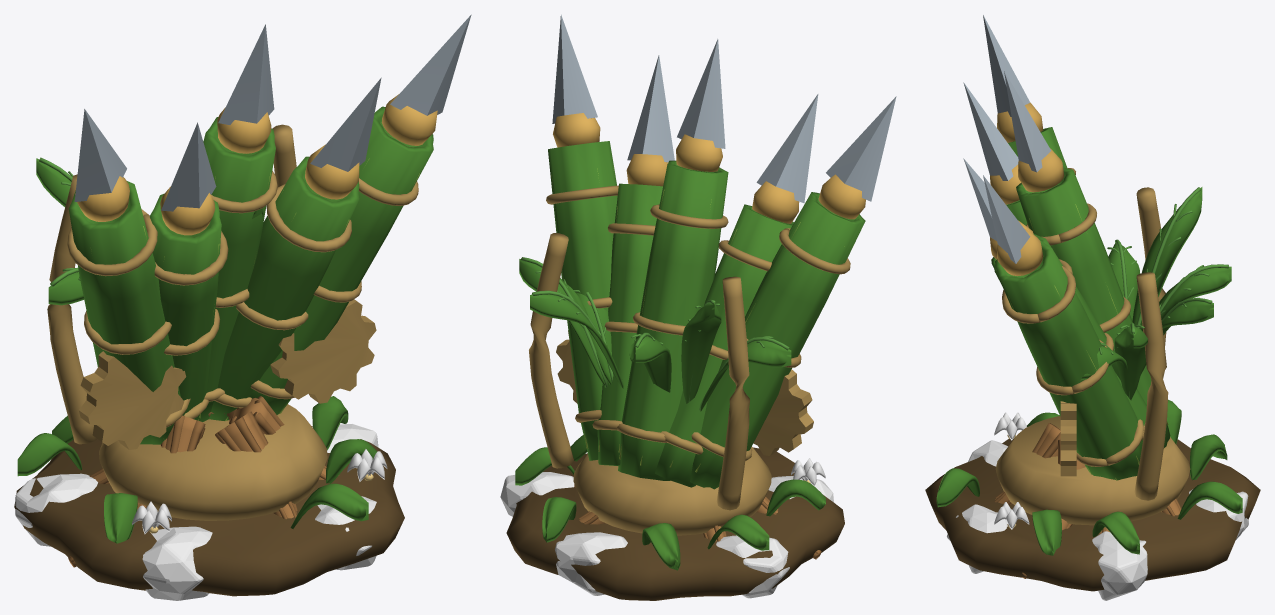
Rendered from bamboo-4.fbx.
3 renders of one model, left to right at view 1: azimuth 30°, elevation 25°; view 2: azimuth 150°, elevation 25°; view 3: azimuth 270°, elevation 25°, orthographic. The views are drawn at different scales.
Parts seen in each view (by area): view 1: Spears_PortalBamboo, Turret_Metal, Spears_Metal, bamboo-4_Organic, bamboo-4_Stone, bamboo-4_PortalBamboo, bamboo-4_Bark, Petals_PortalBamboo, bamboo-4_Petal; view 2: Spears_PortalBamboo, Spears_Metal, Turret_Metal, bamboo-4_Organic, Petals_PortalBamboo, bamboo-4_Stone, bamboo-4_PortalBamboo, bamboo-4_Bark, bamboo-4_Petal; view 3: Spears_PortalBamboo, bamboo-4_Organic, Turret_Metal, Spears_Metal, Petals_PortalBamboo, bamboo-4_PortalBamboo, bamboo-4_Stone, bamboo-4_Bark, bamboo-4_Petal.
Part boxes in pixels (x1,y1,x2,y2): Spears_PortalBamboo: [68, 106, 433, 444]; Turret_Metal: [47, 124, 376, 520]; Spears_Metal: [67, 14, 471, 427]; bamboo-4_Organic: [14, 426, 404, 596]; bamboo-4_Stone: [15, 424, 378, 600]; bamboo-4_PortalBamboo: [17, 396, 377, 543]; bamboo-4_Bark: [68, 396, 338, 567]; Petals_PortalBamboo: [36, 157, 263, 305]; bamboo-4_Petal: [132, 449, 387, 534]; Spears_PortalBamboo: [548, 141, 865, 489]; Spears_Metal: [546, 14, 896, 460]; Turret_Metal: [529, 233, 813, 535]; bamboo-4_Organic: [506, 447, 844, 600]; Petals_PortalBamboo: [519, 257, 791, 411]; bamboo-4_Stone: [500, 472, 833, 598]; bamboo-4_PortalBamboo: [515, 435, 825, 570]; bamboo-4_Bark: [574, 484, 821, 559]; bamboo-4_Petal: [791, 458, 825, 486]; Spears_PortalBamboo: [991, 127, 1170, 480]; bamboo-4_Organic: [925, 435, 1260, 591]; Turret_Metal: [995, 187, 1190, 525]; Spears_Metal: [963, 15, 1145, 466]; Petals_PortalBamboo: [1080, 187, 1231, 400]; bamboo-4_PortalBamboo: [936, 399, 1242, 555]; bamboo-4_Stone: [947, 440, 1248, 600]; bamboo-4_Bark: [994, 423, 1181, 578]; bamboo-4_Petal: [994, 412, 1029, 529].
Bounding box in the file's own units: 93.62 × 128 × 82.7.
